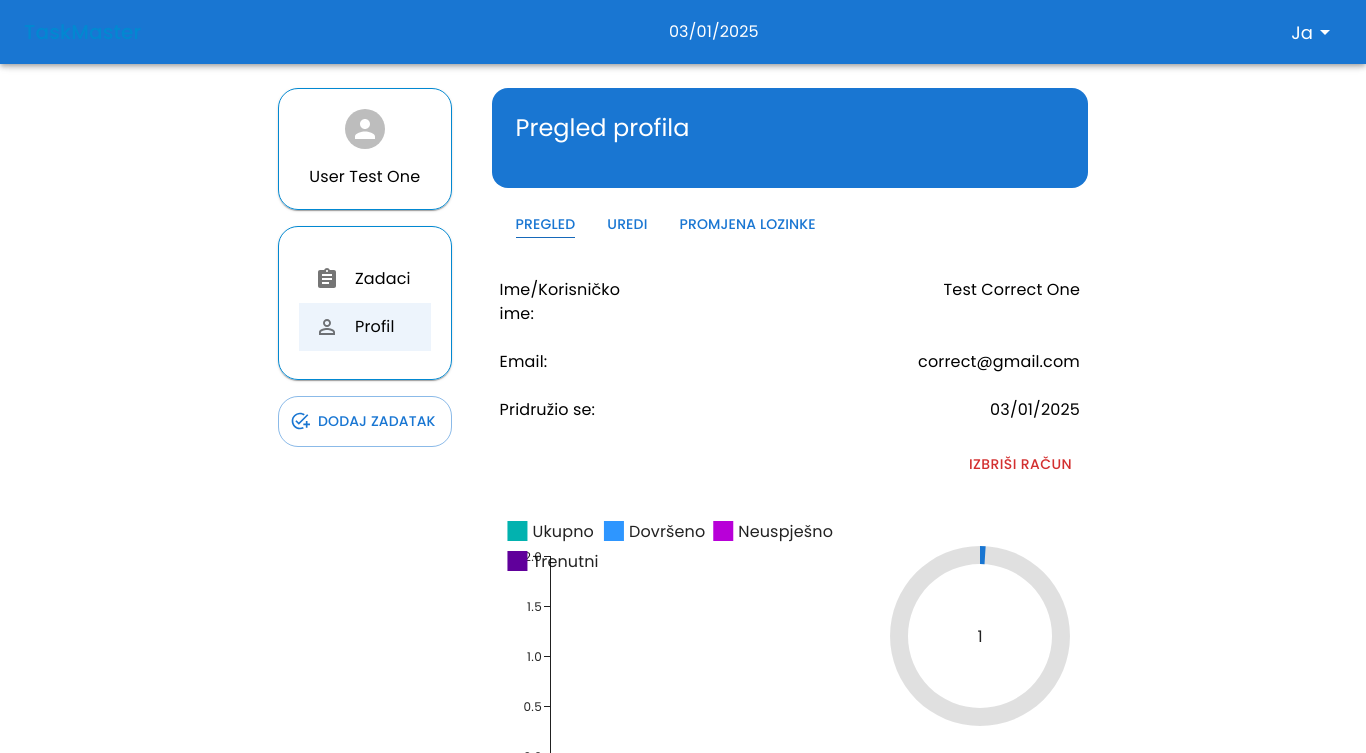
Test: Profile Layout component testing › Should navigate to the Change Password page - bosnian language
The width and height of the screenshot is (1366, 753).
Click the link with aria-label "link-/profile/change-password": [748, 225] box [680,212,816,238]
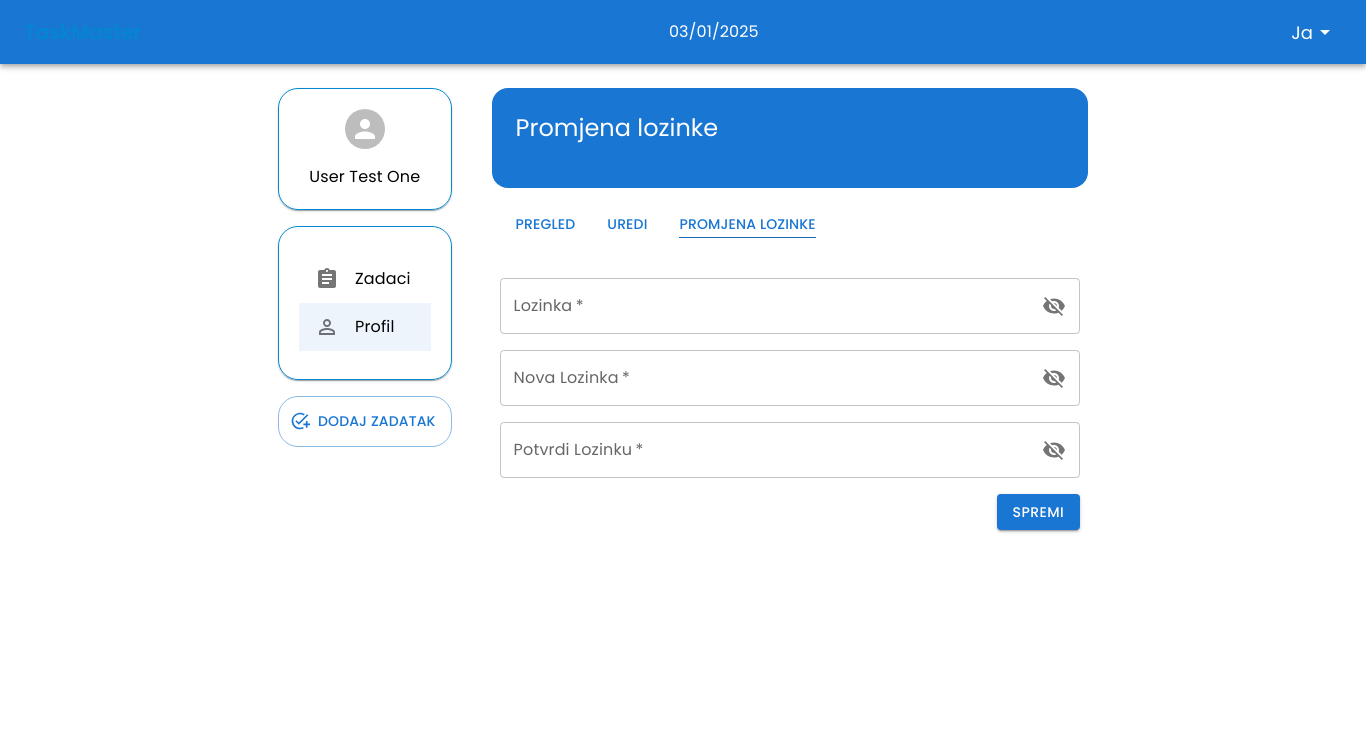
Expected: the heading "Promjena lozinke" is shown, [516,111,718,144]
